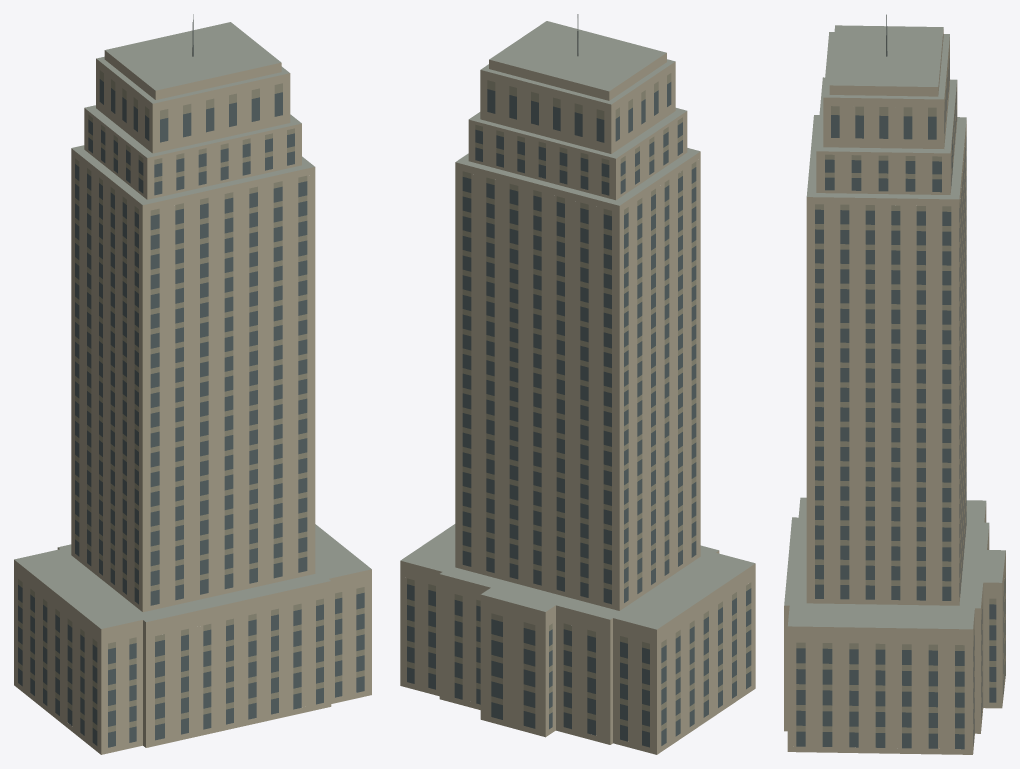
File: kansas-city-city-hall-far.glb
3 renders of one model, left to right at view 1: azimuth 30°, elevation 25°; view 2: azimuth 150°, elevation 25°; view 3: azimuth 270°, elevation 25°, orthographic.
Parts seen in each view (by area): view 1: kansas-city-city-hall-0-stone, kansas-city-city-hall-0-glass, kansas-city-city-hall-0-roof, kansas-city-city-hall-0-bronze; view 2: kansas-city-city-hall-0-stone, kansas-city-city-hall-0-glass, kansas-city-city-hall-0-roof, kansas-city-city-hall-0-bronze; view 3: kansas-city-city-hall-0-stone, kansas-city-city-hall-0-glass, kansas-city-city-hall-0-roof, kansas-city-city-hall-0-bronze.
Boxes of the visible parts, left/top/right/bottom form: kansas-city-city-hall-0-stone: left=14, top=50, right=371, bottom=754; kansas-city-city-hall-0-glass: left=18, top=79, right=364, bottom=747; kansas-city-city-hall-0-roof: left=14, top=22, right=371, bottom=628; kansas-city-city-hall-0-bronze: left=18, top=70, right=364, bottom=732; kansas-city-city-hall-0-stone: left=400, top=53, right=755, bottom=754; kansas-city-city-hall-0-glass: left=407, top=82, right=751, bottom=747; kansas-city-city-hall-0-roof: left=401, top=21, right=754, bottom=629; kansas-city-city-hall-0-bronze: left=407, top=73, right=751, bottom=732; kansas-city-city-hall-0-stone: left=784, top=29, right=1005, bottom=754; kansas-city-city-hall-0-glass: left=796, top=58, right=1005, bottom=749; kansas-city-city-hall-0-roof: left=784, top=25, right=1005, bottom=629; kansas-city-city-hall-0-bronze: left=796, top=49, right=1005, bottom=734.
Size of the model in its own units: 60.3 by 144 by 42.87.
